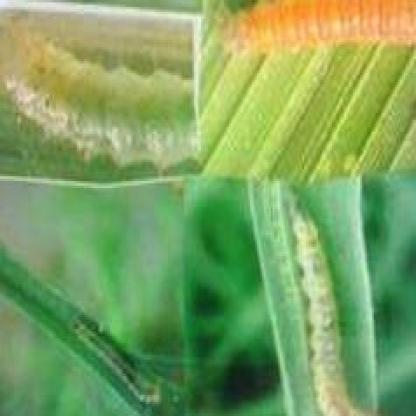leaf-folder: (254, 200, 395, 416), (16, 27, 186, 179), (48, 274, 172, 411), (222, 0, 416, 71)
